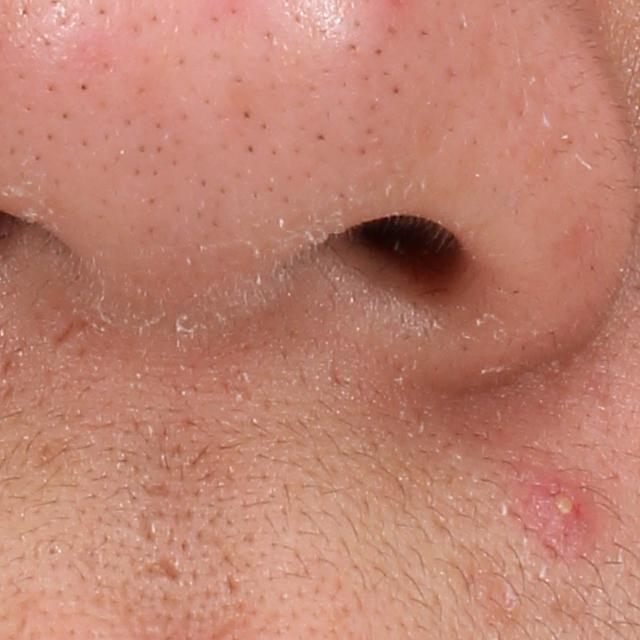atrophic_scar: (47, 307, 94, 355), (142, 554, 185, 586), (137, 512, 157, 546), (140, 483, 176, 497), (223, 573, 239, 601)
pustule: (543, 485, 580, 519)
